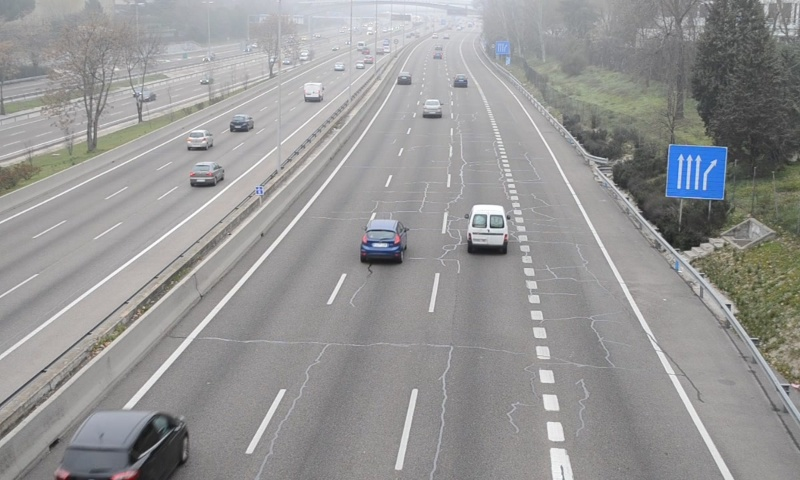car: (56, 410, 189, 480), (360, 220, 407, 262), (422, 99, 442, 117), (396, 70, 412, 86), (452, 74, 468, 88)
van: (466, 205, 507, 252)
